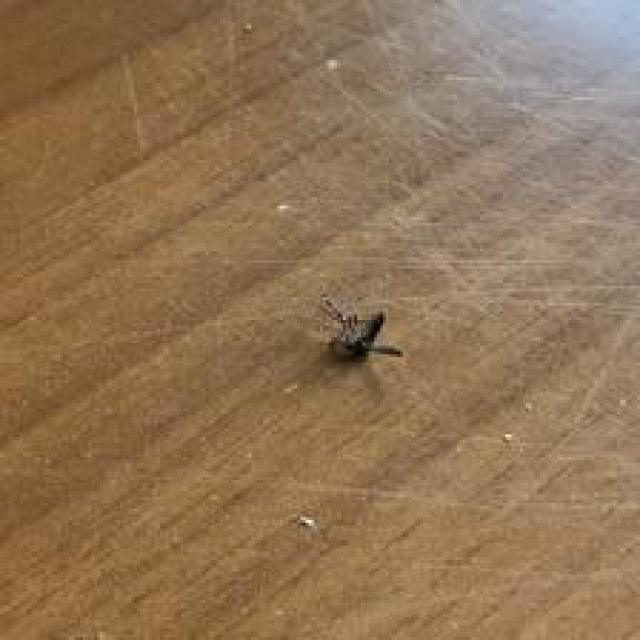Aedes albopictus: (317, 294, 403, 363)
